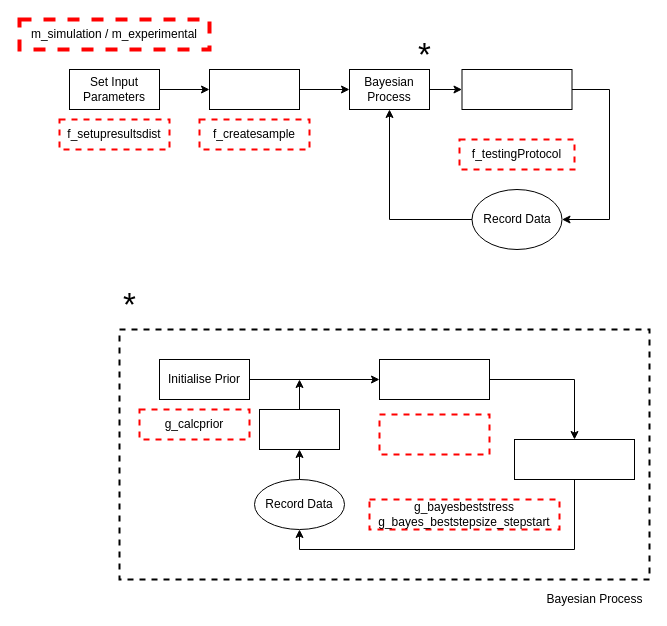
Some shapes in this 667 by 626 pixel diagram are drawn without their labels. Each missing label, with the centre of its shape:
Create Sample Set: (254,89)
Determine Optimal Test Parameter(s): (574,459)
Evaluate Utility Function: (434,379)
g_UTILITY g_STEP_UTILITY: (434,434)
Test Sample According to Protocol: (516,89)
Update Prior: (299,429)
